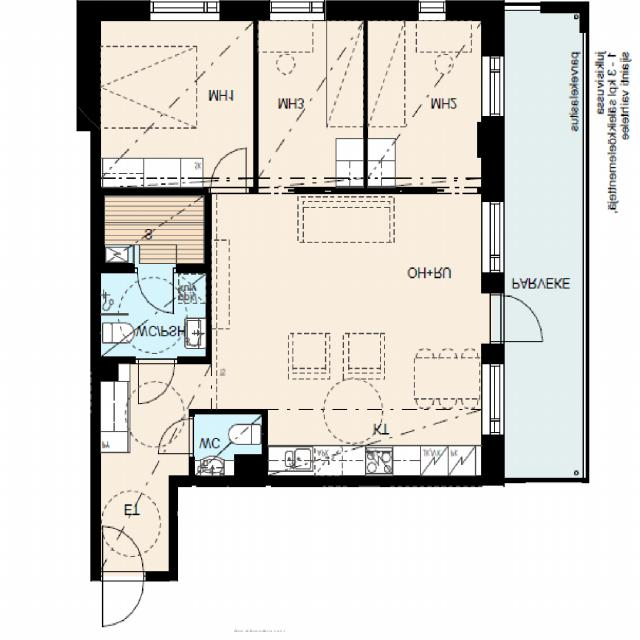door: (482, 296, 546, 341), (103, 570, 144, 626), (103, 526, 144, 580), (138, 264, 174, 312), (139, 356, 174, 403), (212, 150, 246, 193), (158, 419, 195, 454)
